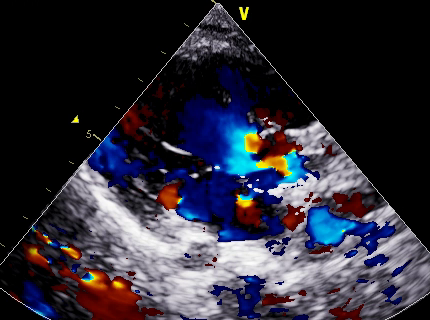MR: (151, 139, 218, 219)
